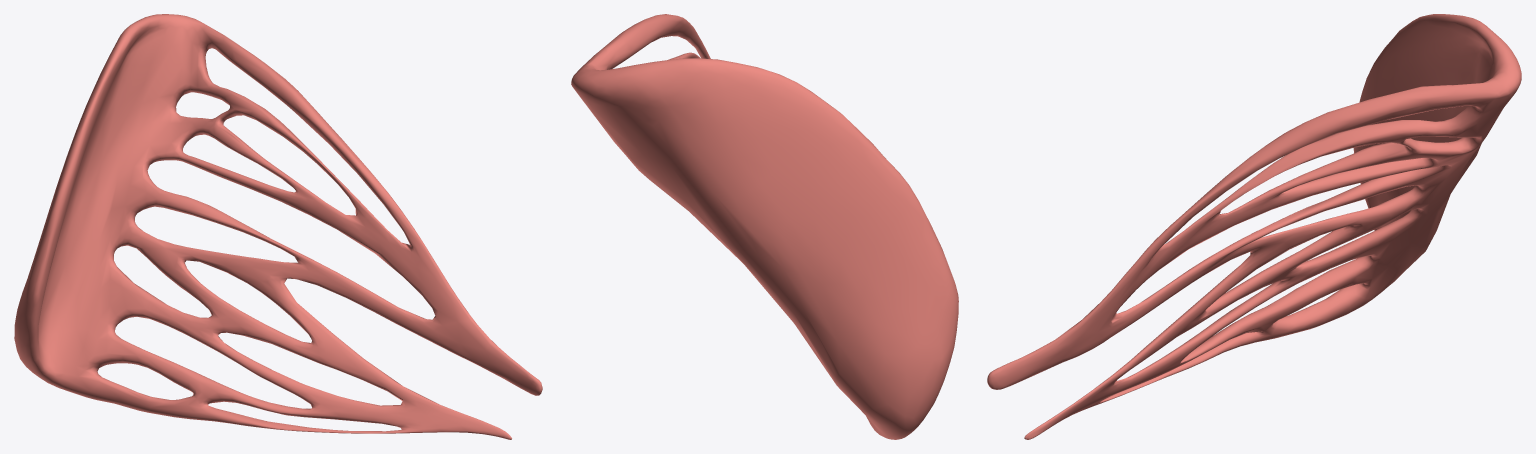
3 views of the same model, side by side, from view 1: azimuth 30°, elevation 25°; view 2: azimuth 150°, elevation 25°; view 3: azimuth 270°, elevation 25° (orthographic). The views are drawn at different scales.
Parts seen in each view (by area): view 1: Posterior leaflet of left atrioventricular valve.017; view 2: Posterior leaflet of left atrioventricular valve.017; view 3: Posterior leaflet of left atrioventricular valve.017.
Part boxes in pixels (x1,y1,x2,y2): Posterior leaflet of left atrioventricular valve.017: (14,14,542,439); Posterior leaflet of left atrioventricular valve.017: (571,14,958,439); Posterior leaflet of left atrioventricular valve.017: (987,14,1521,439).
Size of the model in its own units: 1.14 by 1 by 1.42.
